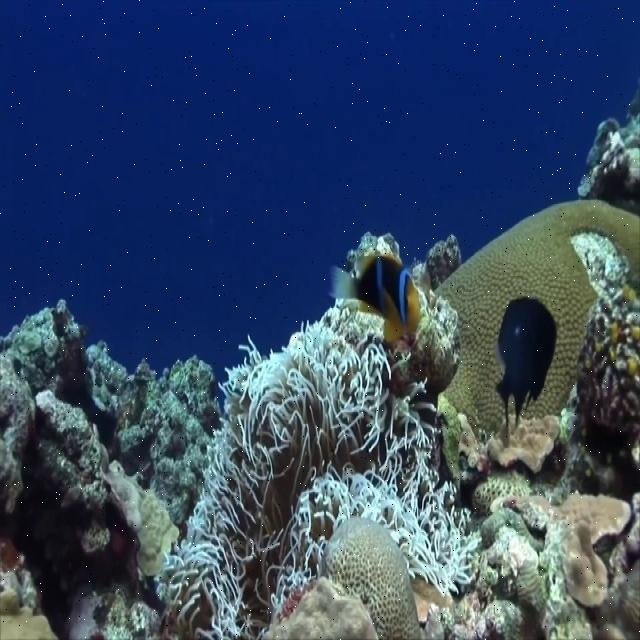fish: (496, 298, 557, 427), (330, 255, 419, 342)
reefs: (154, 302, 478, 639), (1, 300, 224, 639), (434, 199, 604, 443), (574, 241, 639, 435), (322, 518, 423, 638), (267, 577, 377, 639), (472, 471, 534, 518)
